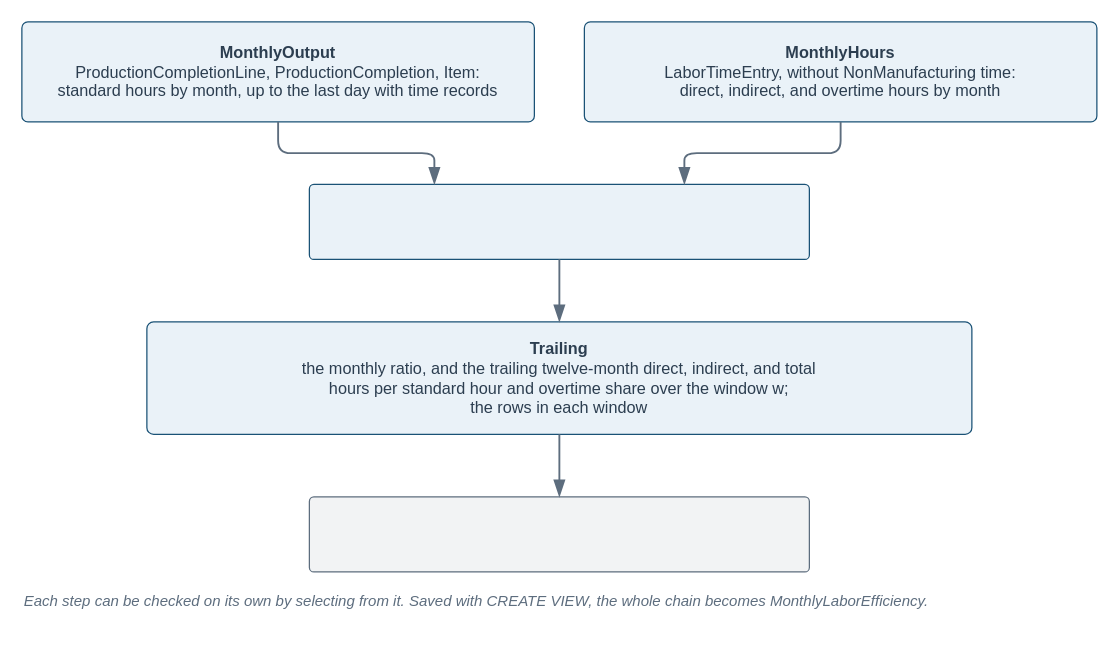
This 1119x659 diagram has some shape labels left out. Each missing label, with the centre of its shape:
Final SELECT keeps the months whose window holds twelve monthly rows: the point at 558,534
Monthly joins the two steps on Month: the point at 558,221
